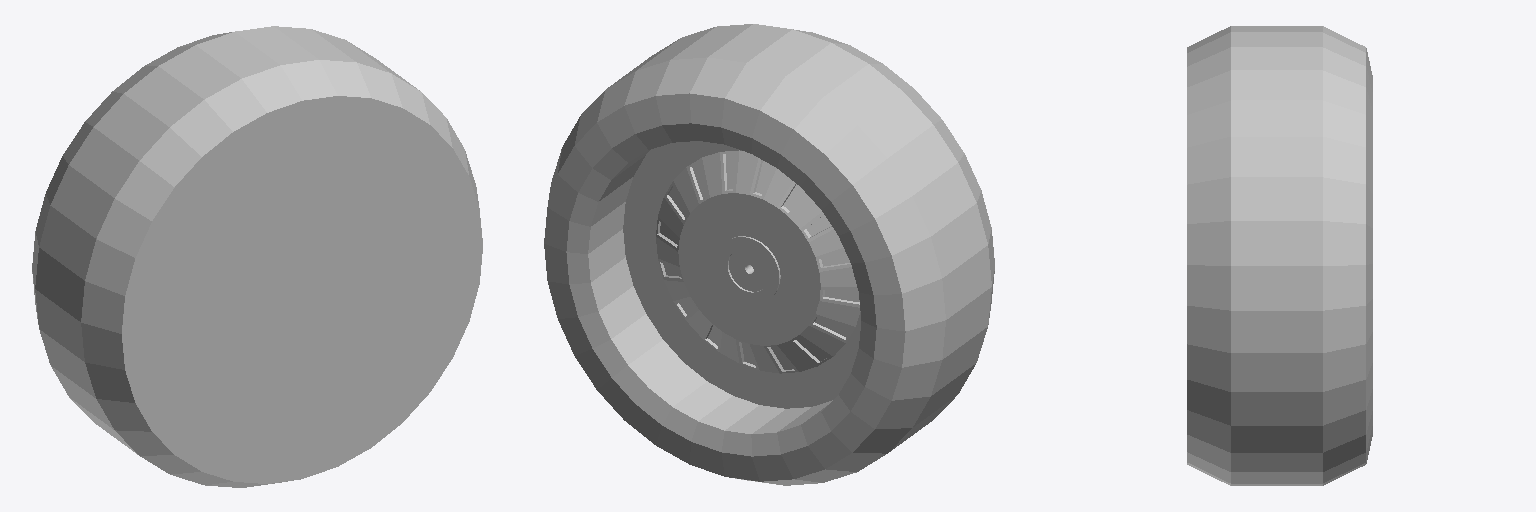
Rendered from WFR.obj.
3 renders of one model, left to right at view 1: azimuth 30°, elevation 25°; view 2: azimuth 150°, elevation 25°; view 3: azimuth 270°, elevation 25°, orthographic.
Visible parts, largest first — view 1: f_wheel; view 2: f_wheel; view 3: f_wheel.
Boxes of the visible parts, x1,y1,x2,y2 form: f_wheel: [32, 26, 482, 487]; f_wheel: [544, 24, 994, 485]; f_wheel: [1187, 26, 1372, 485].
Size of the model in its own units: 1.44 by 1.44 by 0.5822.